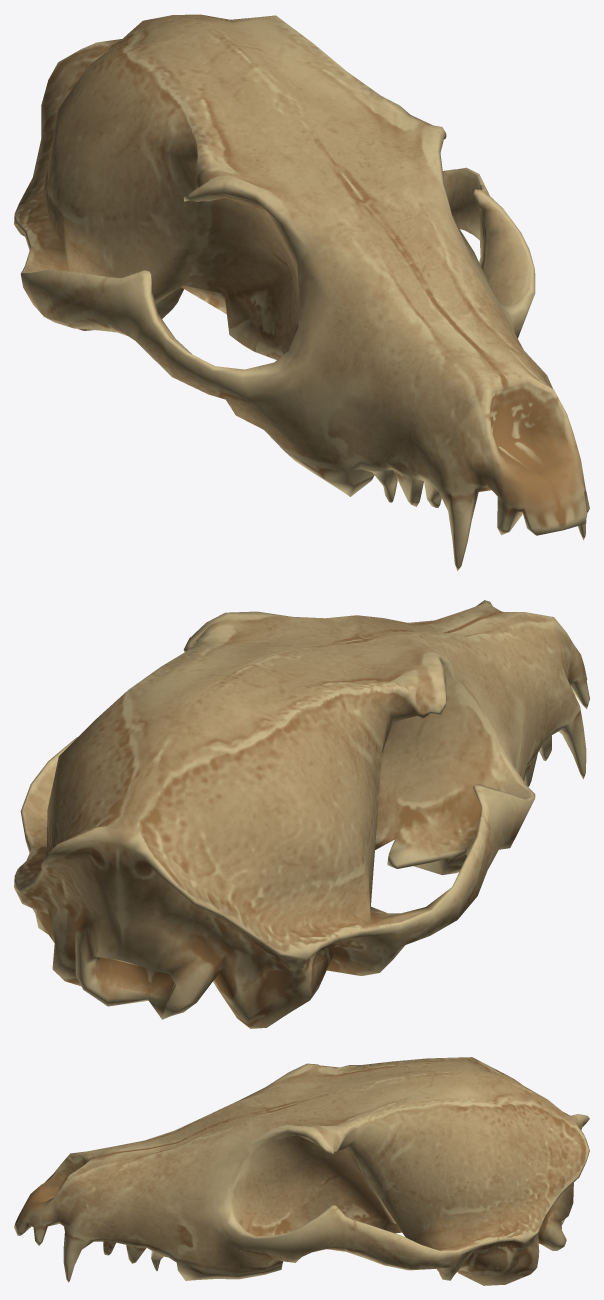
The model's file is Fox_Skull.FBX.
3 views of the same model, one above another, from view 1: azimuth 30°, elevation 25°; view 2: azimuth 150°, elevation 25°; view 3: azimuth 270°, elevation 25° (orthographic). The views are drawn at different scales.
Visible parts, largest first — view 1: Fox_Skull; view 2: Fox_Skull; view 3: Fox_Skull.
Boxes of the visible parts, <box> form: Fox_Skull: <box>14,14,589,571</box>; Fox_Skull: <box>14,600,589,1028</box>; Fox_Skull: <box>14,1057,589,1285</box>.
Size of the model in its own units: 21.76 by 14.68 by 39.85.
